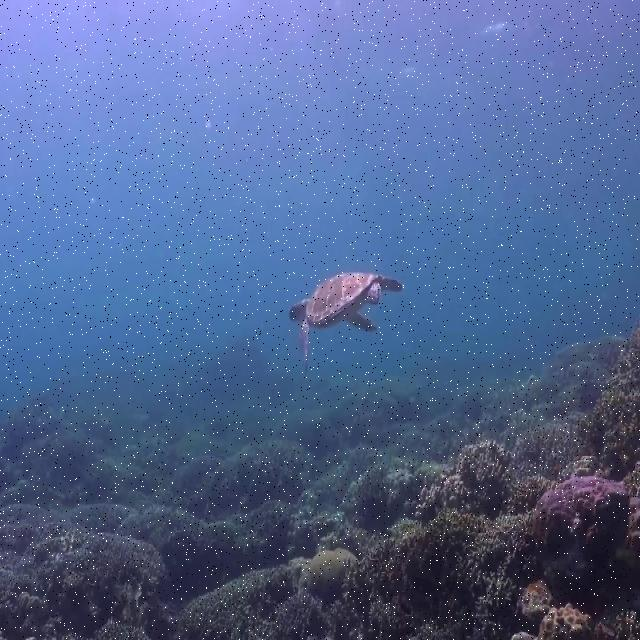fish: (288, 273, 406, 371)
